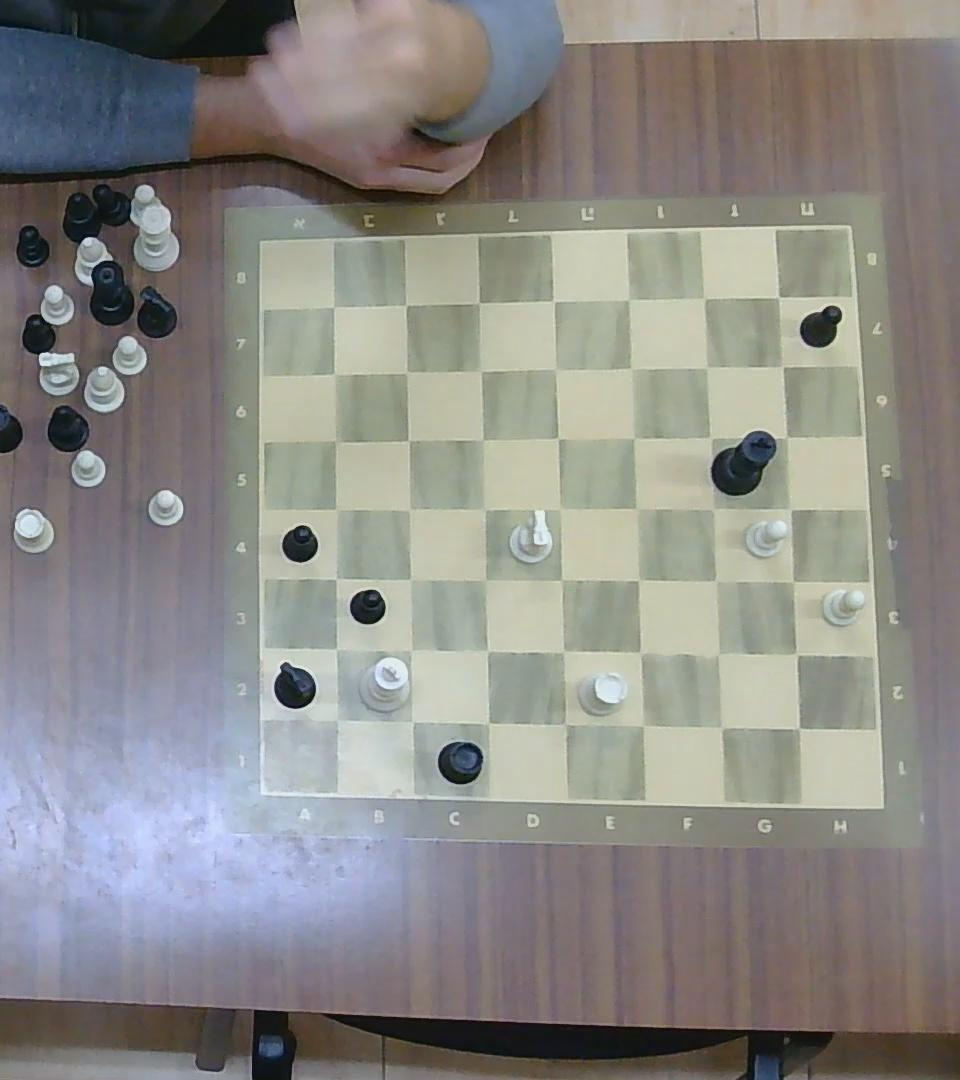xcorner: (702, 638, 734, 670), (705, 710, 736, 743), (781, 712, 815, 742), (548, 706, 579, 738), (626, 709, 657, 741), (320, 703, 352, 734), (625, 637, 655, 668), (622, 563, 652, 594), (471, 707, 502, 737), (396, 705, 427, 735), (781, 639, 812, 669), (548, 636, 578, 666), (700, 565, 730, 595), (615, 283, 645, 313), (548, 563, 577, 594), (541, 285, 570, 315), (777, 567, 806, 596), (623, 493, 652, 522), (465, 287, 494, 316), (776, 493, 805, 522), (547, 494, 575, 524), (472, 637, 501, 665), (543, 353, 571, 382), (471, 566, 500, 594), (699, 493, 727, 522), (619, 353, 647, 382), (470, 424, 498, 453), (396, 635, 424, 664), (467, 355, 495, 383), (471, 495, 499, 523), (693, 352, 721, 380), (392, 291, 420, 319), (621, 422, 648, 451), (698, 422, 725, 451), (320, 293, 349, 320), (321, 636, 350, 663), (692, 284, 719, 312), (769, 352, 797, 379), (546, 424, 572, 452), (396, 426, 422, 453), (396, 496, 423, 522), (323, 427, 349, 453), (773, 422, 799, 448), (324, 496, 350, 522), (398, 566, 425, 591), (395, 358, 420, 383), (323, 566, 348, 591), (323, 361, 348, 384), (768, 285, 791, 308)
